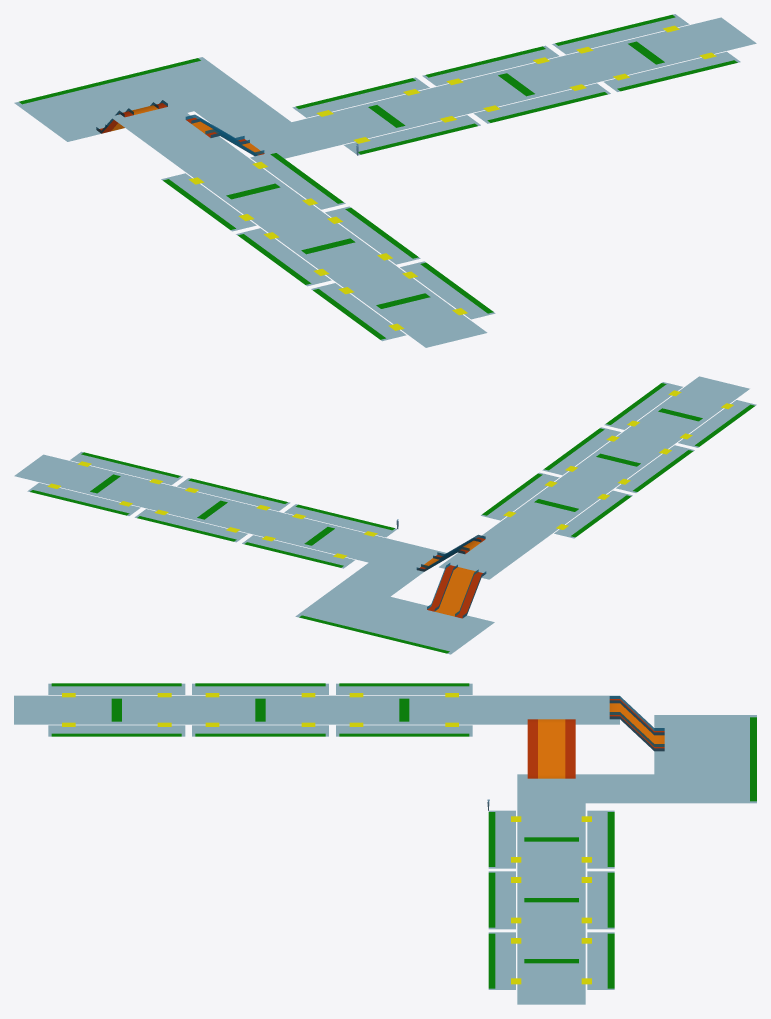
File: WorldGeometry.dae
The picture shows the model from 3 angles, top to bottom: view 1: azimuth 30°, elevation 25°; view 2: azimuth 150°, elevation 25°; view 3: azimuth 270°, elevation 25°; orthographic projection. The views are drawn at different scales.
Visible parts, largest first — view 1: FloorMesh (×14), PortalMesh; view 2: FloorMesh (×14), StairMesh, PortalMesh; view 3: FloorMesh (×14), StairMesh (×2), EscalatorMesh (×2), PortalMesh.
Boxes of the visible parts, left/top/right/bottom form: FloorMesh (×14): left=14, top=14, right=756, bottom=347; PortalMesh: left=19, top=58, right=200, bottom=104; FloorMesh (×14): left=14, top=376, right=756, bottom=654; StairMesh: left=435, top=567, right=476, bottom=616; PortalMesh: left=299, top=615, right=449, bottom=653; FloorMesh (×14): left=14, top=683, right=756, bottom=1004; StairMesh (×2): left=538, top=703, right=664, bottom=778; EscalatorMesh (×2): left=527, top=719, right=575, bottom=778; PortalMesh: left=750, top=717, right=756, bottom=801.
Size of the model in its own units: 100 by 5.65 by 109.
